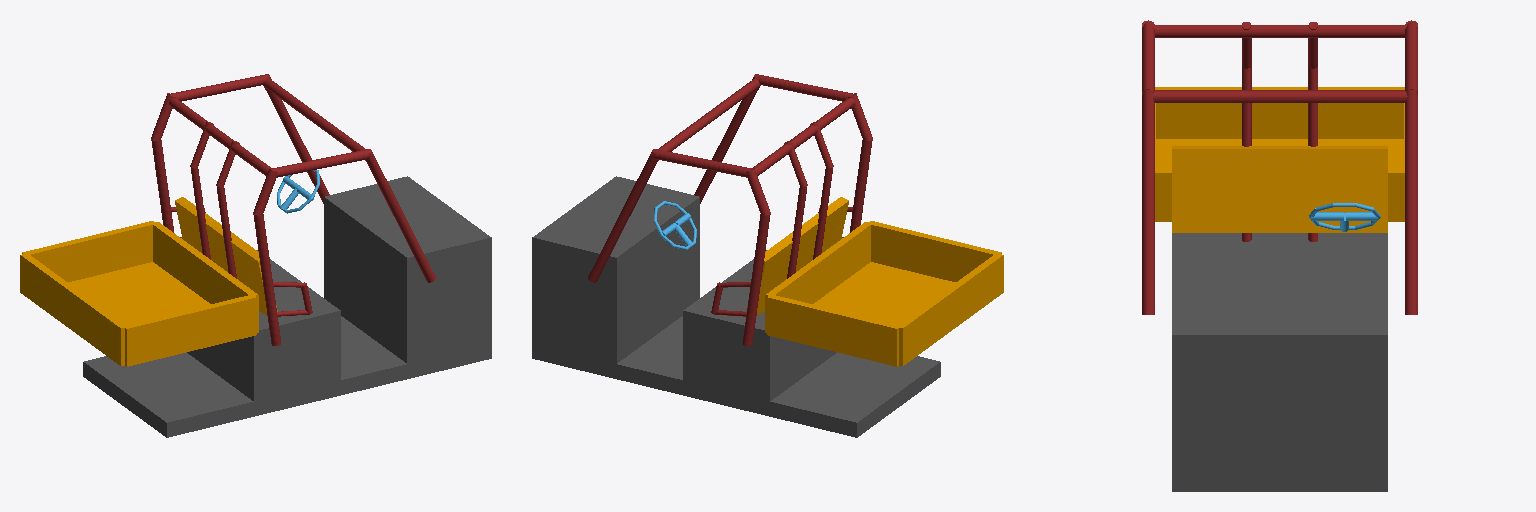
--- Facts derived from the render (not from the file) ---
3 views of the same robot in one strip: view 1: azimuth 30°, elevation 25°; view 2: azimuth 150°, elevation 25°; view 3: azimuth 270°, elevation 25° (orthographic).
Model polaris_ranger_ev with 2 links and 1 joints (1 fixed), rooted at chassis, posed all joints at 0.
Visible links, largest first — view 1: chassis, steering_wheel; view 2: chassis, steering_wheel; view 3: chassis, steering_wheel.
Link boxes in pixels (x1,y1,x2,y2): chassis: (20,74,491,437); steering_wheel: (277,170,319,213); chassis: (532,74,1003,437); steering_wheel: (654,201,696,249); chassis: (1142,20,1417,491); steering_wheel: (1308,203,1380,231).
Bounding box of the posed robot: 2.62 × 1.28 × 1.67 m (x, y, z).
0 mesh visuals loaded from 1 distinct referenced files (none loaded); not drawn: 1 (reference not matched to a file when rendering).

robot.urdf — polaris_ranger_ev:
<robot name="polaris_ranger_ev">
  <link name="chassis">
    <inertial>
      <!-- subtracted wheel weights from dry weight of 771 kg -->
      <!-- http://www.polaris.com/en-us/ranger-utv/side-by-sides/ranger-ev/specifications -->
      <mass>720.0</mass>
      <inertia>
        <ixx>140</ixx>
        <ixy>0.0</ixy><iyy>550</iyy>
        <ixz>0.0</ixz><iyz>0.0</iyz><izz>550</izz>
      </inertia>
    </inertial>
    <visual name="visual">
      <!-- rotate mesh to get to X-forward -->
      <origin rpy="0 0 -1.570796" xyz="0 0 0" />
      <geometry>
        <mesh filename="model://polaris_ranger_ev/meshes/polaris.dae" />
      </geometry>
      <material>
        <script>
          <uri>model://polaris_ranger_ev/materials/scripts</uri>
          <uri>model://polaris_ranger_ev/materials/textures</uri>
          <name>Polaris/Diffuse</name>
        </script>
      </material>
    </visual>
    <!--<collision name="chassis_bottom">-->
      <!--<origin rpy="0.0 0.0 0.0" xyz="0.0 0.0 0.35" /> -->
      <!--<geometry>-->
        <!--<box-->
          <!--size="2.0 1.0 0.1"-->
        <!--/>-->
      <!--</geometry>-->
    <!--</collision>-->
    <!--<collision name="cargo_bottom">-->
      <!--<origin rpy="0.0 0.0 0.0" xyz="-0.9 0.0 0.9" /> -->
      <!--<geometry>-->
        <!--<box-->
          <!--size="0.9 1.2 0.01"-->
        <!--/>-->
      <!--</geometry>-->
    <!--</collision>-->
    <!--<collision name="cargo_front">-->
      <!--<origin rpy="0.0 0.0 0.0" xyz="-0.45 0.0 1.025" /> -->
      <!--<geometry>-->
        <!--<box-->
          <!--size="0.05 1.2 0.25"-->
        <!--/>-->
      <!--</geometry>-->
    <!--</collision>-->
    <!--<collision name="cargo_back">-->
      <!--<origin rpy="0.0 0.0 0.0" xyz="-1.35 0.0 1.025" /> -->
      <!--<geometry>-->
        <!--<box-->
          <!--size="0.05 1.2 0.25"-->
        <!--/>-->
      <!--</geometry>-->
    <!--</collision>-->
    <!--<collision name="cargo_left">-->
      <!--<origin rpy="0.0 0.0 0.0" xyz="-0.9 0.6 1.025" /> -->
      <!--<geometry>-->
        <!--<box-->
          <!--size="0.9 0.05 0.25"-->
        <!--/>-->
      <!--</geometry>-->
    <!--</collision>-->
    <!--<collision name="cargo_right">-->
      <!--<origin rpy="0.0 0.0 0.0" xyz="-0.9 -0.6 1.025" /> -->
      <!--<geometry>-->
        <!--<box-->
          <!--size="0.9 0.05 0.25"-->
        <!--/>-->
      <!--</geometry>-->
    <!--</collision>-->
    <!--<collision name="seat">-->
      <!--<origin rpy="0.0 0.0 0.0" xyz="-0.1 0.0 0.585" /> -->
      <!--<geometry>-->
        <!--<box-->
          <!--size="0.6 1.0 0.55"-->
        <!--/>-->
      <!--</geometry>-->
    <!--</collision>-->
    <!--<collision name="seat_back">-->
      <!--<origin rpy="0.0 -0.2 0.0" xyz="-0.3 0.0 1.125" /> -->
      <!--<geometry>-->
        <!--<box-->
          <!--size="0.06 1.0 0.4"-->
        <!--/>-->
      <!--</geometry>-->
    <!--</collision>-->
    <!--<collision name="engine">-->
      <!--<origin rpy="0.0 0.0 0.0" xyz="0.95 0.0 0.7" /> -->
      <!--<geometry>-->
        <!--<box-->
          <!--size="0.58 1.0 0.8"-->
        <!--/>-->
      <!--</geometry>-->
    <!--</collision>-->
    <!--[> Begin simple collision shapes for entry/exit handles <]-->
    <!--<collision name="handle_left_top">-->
      <!--<origin rpy=" 0 -1.32 0" xyz="-0.23 0.61 1.175" />-->
      <!--<geometry>-->
        <!--<cylinder-->
          <!--radius="0.015"-->
          <!--length="0.25"-->
        <!--/>-->
      <!--</geometry>-->
    <!--</collision>-->
    <!--<collision name="handle_left_bottom">-->
      <!--<origin rpy=" 0 -1.40 0" xyz="-0.20 0.61 0.98" />-->
      <!--<geometry>-->
        <!--<cylinder-->
          <!--radius="0.015"-->
          <!--length="0.25"-->
        <!--/>-->
      <!--</geometry>-->
    <!--</collision>-->
    <!--<collision name="handle_left_middle">-->
      <!--<origin rpy=" 0 -0.20 0" xyz="-0.10 0.61 1.055" />-->
      <!--<geometry>-->
        <!--<cylinder-->
          <!--radius="0.02"-->
          <!--length="0.20"-->
        <!--/>-->
      <!--</geometry>-->
    <!--</collision>-->
    <!--<collision name="handle_right_top">-->
      <!--<origin rpy=" 0 -1.32 0" xyz="-0.23 -0.61 1.175" />-->
      <!--<geometry>-->
        <!--<cylinder-->
          <!--radius="0.015"-->
          <!--length="0.25"-->
        <!--/>-->
      <!--</geometry>-->
    <!--</collision>-->
    <!--<collision name="handle_right_bottom">-->
      <!--<origin rpy=" 0 -1.40 0" xyz="-0.20 -0.61 0.98" />-->
      <!--<geometry>-->
        <!--<cylinder-->
          <!--radius="0.015"-->
          <!--length="0.25"-->
        <!--/>-->
      <!--</geometry>-->
    <!--</collision>-->
    <!--<collision name="handle_right_middle">-->
      <!--<origin rpy=" 0 -0.20 0" xyz="-0.10 -0.61 1.055" />-->
      <!--<geometry>-->
        <!--<cylinder-->
          <!--radius="0.02"-->
          <!--length="0.20"-->
          <!--/>-->
      <!--</geometry>-->
    <!--</collision>-->
    <!--[> End simple collision shapes for entry/exit handles <]-->
    <!--[> Begin simple collision shapes for roll cage <]-->
    <!--<collision name="rollcage_top_left">-->
      <!--<origin rpy=" 0 1.61 0" xyz="0.0 0.61 1.92" />-->
      <!--<geometry>-->
        <!--<cylinder-->
          <!--radius="0.03"-->
          <!--length="0.68"-->
        <!--/>-->
      <!--</geometry>-->
    <!--</collision>-->
    <!--<collision name="rollcage_top_right">-->
      <!--<origin rpy=" 0 1.61 0" xyz="0.0 -0.61 1.92" />-->
      <!--<geometry>-->
        <!--<cylinder-->
          <!--radius="0.03"-->
          <!--length="0.68"-->
        <!--/>-->
      <!--</geometry>-->
    <!--</collision>-->
    <!--<collision name="rollcage_top_front">-->
      <!--<origin rpy=" 1.570796 0 0" xyz="0.325 0.0 1.89" />-->
      <!--<geometry>-->
        <!--<cylinder-->
          <!--radius="0.03"-->
          <!--length="1.22"-->
        <!--/>-->
      <!--</geometry>-->
    <!--</collision>-->
    <!--<collision name="rollcage_top_back">-->
      <!--<origin rpy=" 1.570796 0 0" xyz="-0.330 0.0 1.92" />-->
      <!--<geometry>-->
        <!--<cylinder-->
          <!--radius="0.03"-->
          <!--length="1.22"-->
        <!--/>-->
      <!--</geometry>-->
    <!--</collision>-->
    <!--<collision name="rollcage_front_left">-->
      <!--<origin rpy=" 0 -0.44 0" xyz="0.54 0.61 1.45" />-->
      <!--<geometry>-->
        <!--<cylinder-->
          <!--radius="0.03"-->
          <!--length="1.04"-->
        <!--/>-->
      <!--</geometry>-->
    <!--</collision>-->
    <!--<collision name="rollcage_front_right">-->
      <!--<origin rpy=" 0 -0.44 0" xyz="0.54 -0.61 1.45" />-->
      <!--<geometry>-->
        <!--<cylinder-->
          <!--radius="0.03"-->
          <!--length="1.04"-->
        <!--/>-->
      <!--</geometry>-->
    <!--</collision>-->
    <!--<collision name="rollcage_back_left">-->
      <!--<origin rpy=" 0 -0.14 0" xyz="-0.37 0.61 1.25" />-->
      <!--<geometry>-->
        <!--<cylinder-->
          <!--radius="0.03"-->
          <!--length="0.90"-->
        <!--/>-->
      <!--</geometry>-->
    <!--</collision>-->
    <!--<collision name="rollcage_back_right">-->
      <!--<origin rpy=" 0 -0.14 0" xyz="-0.37 -0.61 1.25" />-->
      <!--<geometry>-->
        <!--<cylinder-->
          <!--radius="0.03"-->
          <!--length="0.90"-->
        <!--/>-->
      <!--</geometry>-->
    <!--</collision>-->
    <!--<collision name="rollcage_back_midleft">-->
      <!--<origin rpy=" 0 -0.14 0" xyz="-0.37 0.155 1.25" />-->
      <!--<geometry>-->
        <!--<cylinder-->
          <!--radius="0.023"-->
          <!--length="0.90"-->
        <!--/>-->
      <!--</geometry>-->
    <!--</collision>-->
    <!--<collision name="rollcage_back_midright">-->
      <!--<origin rpy=" 0 -0.14 0" xyz="-0.37 -0.155 1.25" />-->
      <!--<geometry>-->
        <!--<cylinder-->
          <!--radius="0.023"-->
          <!--length="0.90"-->
        <!--/>-->
      <!--</geometry>-->
    <!--</collision>-->
    <!--<collision name="rollcage_back_upper_left">-->
      <!--<origin rpy=" 0 0.40 0" xyz="-0.38 0.61 1.82" />-->
      <!--<geometry>-->
        <!--<cylinder-->
          <!--radius="0.03"-->
          <!--length="0.29"-->
        <!--/>-->
      <!--</geometry>-->
    <!--</collision>-->
    <!--<collision name="rollcage_back_upper_right">-->
      <!--<origin rpy=" 0 0.40 0" xyz="-0.38 -0.61 1.82" />-->
      <!--<geometry>-->
        <!--<cylinder-->
          <!--radius="0.03"-->
          <!--length="0.29"-->
        <!--/>-->
      <!--</geometry>-->
    <!--</collision>-->
    <!--<collision name="rollcage_back_upper_midleft">-->
      <!--<origin rpy=" 0 0.40 0" xyz="-0.38 0.155 1.82" />-->
      <!--<geometry>-->
        <!--<cylinder-->
          <!--radius="0.023"-->
          <!--length="0.29"-->
        <!--/>-->
      <!--</geometry>-->
    <!--</collision>-->
    <!--<collision name="rollcage_back_upper_midright">-->
      <!--<origin rpy=" 0 0.40 0" xyz="-0.38 -0.155 1.82" />-->
      <!--<geometry>-->
        <!--<cylinder-->
          <!--radius="0.023"-->
          <!--length="0.29"-->
        <!--/>-->
      <!--</geometry>-->
    <!--</collision>-->
    <!-- End simple collision shapes for roll cage -->
    <visual name="chassis_bottom">
      <origin rpy="0.0 0.0 0.0" xyz="0.0 0.0 0.35" /> 
      <geometry>
        <box
          size="2.0 1.0 0.1"
        />
      </geometry>
      <material name="">
        <color rgba="0.4 0.4 0.4 1" />
      </material>
    </visual>
    <visual name="cargo_bottom">
      <origin rpy="0.0 0.0 0.0" xyz="-0.9 0.0 0.9" /> 
      <geometry>
        <box
          size="0.9 1.2 0.01"
        />
      </geometry>
    </visual>
    <visual name="cargo_front">
      <origin rpy="0.0 0.0 0.0" xyz="-0.45 0.0 1.025" /> 
      <geometry>
        <box
          size="0.05 1.2 0.25"
        />
      </geometry>
    </visual>
    <visual name="cargo_back">
      <origin rpy="0.0 0.0 0.0" xyz="-1.35 0.0 1.025" /> 
      <geometry>
        <box
          size="0.05 1.2 0.25"
        />
      </geometry>
    </visual>
    <visual name="cargo_left">
      <origin rpy="0.0 0.0 0.0" xyz="-0.9 0.6 1.025" /> 
      <geometry>
        <box
          size="0.9 0.05 0.25"
        />
      </geometry>
    </visual>
    <visual name="cargo_right">
      <origin rpy="0.0 0.0 0.0" xyz="-0.9 -0.6 1.025" /> 
      <geometry>
        <box
          size="0.9 0.05 0.25"
        />
      </geometry>
    </visual>
    <visual name="seat">
      <origin rpy="0.0 0.0 0.0" xyz="-0.1 0.0 0.585" /> 
      <geometry>
        <box
          size="0.6 1.0 0.55"
        />
      </geometry>
      <material name="">
        <color rgba="0.4 0.4 0.4 1" />
      </material>
    </visual>
    <visual name="seat_back">
      <origin rpy="0.0 -0.2 0.0" xyz="-0.3 0.0 1.125" /> 
      <geometry>
        <box
          size="0.06 1.0 0.4"
        />
      </geometry>
    </visual>
    <visual name="engine">
      <origin rpy="0.0 0.0 0.0" xyz="0.95 0.0 0.7" /> 
      <geometry>
        <box
          size="0.58 1.0 0.8"
        />
      </geometry>
      <material name="">
        <color rgba="0.4 0.4 0.4 1" />
      </material>
    </visual>
    <!-- Begin simple visual shapes for entry/exit handles -->
    <visual name="handle_left_top">
      <origin rpy=" 0 -1.32 0" xyz="-0.23 0.61 1.175" />
      <geometry>
        <cylinder
          radius="0.015"
          length="0.25"
        />
      </geometry>
      <material name="">
        <color rgba="0.6 0.2 0.2 1" />
      </material>
    </visual>
    <visual name="handle_left_bottom">
      <origin rpy=" 0 -1.40 0" xyz="-0.20 0.61 0.98" />
      <geometry>
        <cylinder
          radius="0.015"
          length="0.25"
        />
      </geometry>
      <material name="">
        <color rgba="0.6 0.2 0.2 1" />
      </material>
    </visual>
    <visual name="handle_left_middle">
      <origin rpy=" 0 -0.20 0" xyz="-0.10 0.61 1.055" />
      <geometry>
        <cylinder
          radius="0.02"
          length="0.20"
        />
      </geometry>
      <material name="">
        <color rgba="0.6 0.2 0.2 1" />
      </material>
    </visual>
    <visual name="handle_right_top">
      <origin rpy=" 0 -1.32 0" xyz="-0.23 -0.61 1.175" />
      <geometry>
        <cylinder
          radius="0.015"
          length="0.25"
        />
      </geometry>
      <material name="">
        <color rgba="0.6 0.2 0.2 1" />
      </material>
    </visual>
    <visual name="handle_right_bottom">
      <origin rpy=" 0 -1.40 0" xyz="-0.20 -0.61 0.98" />
      <geometry>
        <cylinder
          radius="0.015"
          length="0.25"
        />
      </geometry>
      <material name="">
        <color rgba="0.6 0.2 0.2 1" />
      </material>
    </visual>
    <visual name="handle_right_middle">
      <origin rpy=" 0 -0.20 0" xyz="-0.10 -0.61 1.055" />
      <geometry>
        <cylinder
          radius="0.02"
          length="0.20"
          />
      </geometry>
      <material name="">
        <color rgba="0.6 0.2 0.2 1" />
      </material>
    </visual>
    <!-- End simple visual shapes for entry/exit handles -->
    <!-- Begin simple visual shapes for roll cage -->
    <visual name="rollcage_top_left">
      <origin rpy=" 0 1.61 0" xyz="0.0 0.61 1.92" />
      <geometry>
        <cylinder
          radius="0.03"
          length="0.68"
        />
      </geometry>
      <material name="">
        <color rgba="0.6 0.2 0.2 1" />
      </material>
    </visual>
    <visual name="rollcage_top_right">
      <origin rpy=" 0 1.61 0" xyz="0.0 -0.61 1.92" />
      <geometry>
        <cylinder
          radius="0.03"
          length="0.68"
        />
      </geometry>
      <material name="">
        <color rgba="0.6 0.2 0.2 1" />
      </material>
    </visual>
    <visual name="rollcage_top_front">
      <origin rpy=" 1.570796 0 0" xyz="0.325 0.0 1.89" />
      <geometry>
        <cylinder
          radius="0.03"
          length="1.22"
        />
      </geometry>
      <material name="">
        <color rgba="0.6 0.2 0.2 1" />
      </material>
    </visual>
    <visual name="rollcage_top_back">
      <origin rpy=" 1.570796 0 0" xyz="-0.330 0.0 1.92" />
      <geometry>
        <cylinder
          radius="0.03"
          length="1.22"
        />
      </geometry>
      <material name="">
        <color rgba="0.6 0.2 0.2 1" />
      </material>
    </visual>
    <visual name="rollcage_front_left">
      <origin rpy=" 0 -0.44 0" xyz="0.54 0.61 1.45" />
      <geometry>
        <cylinder
          radius="0.03"
          length="1.04"
        />
      </geometry>
      <material name="">
        <color rgba="0.6 0.2 0.2 1" />
      </material>
    </visual>
    <visual name="rollcage_front_right">
      <origin rpy=" 0 -0.44 0" xyz="0.54 -0.61 1.45" />
      <geometry>
        <cylinder
          radius="0.03"
          length="1.04"
        />
      </geometry>
      <material name="">
        <color rgba="0.6 0.2 0.2 1" />
      </material>
    </visual>
    <visual name="rollcage_back_left">
      <origin rpy=" 0 -0.14 0" xyz="-0.37 0.61 1.25" />
      <geometry>
        <cylinder
          radius="0.03"
          length="0.90"
        />
      </geometry>
      <material name="">
        <color rgba="0.6 0.2 0.2 1" />
      </material>
    </visual>
    <visual name="rollcage_back_right">
      <origin rpy=" 0 -0.14 0" xyz="-0.37 -0.61 1.25" />
      <geometry>
        <cylinder
          radius="0.03"
          length="0.90"
        />
      </geometry>
      <material name="">
        <color rgba="0.6 0.2 0.2 1" />
      </material>
    </visual>
    <visual name="rollcage_back_midleft">
      <origin rpy=" 0 -0.14 0" xyz="-0.37 0.155 1.25" />
      <geometry>
        <cylinder
          radius="0.023"
          length="0.90"
        />
      </geometry>
      <material name="">
        <color rgba="0.6 0.2 0.2 1" />
      </material>
    </visual>
    <visual name="rollcage_back_midright">
      <origin rpy=" 0 -0.14 0" xyz="-0.37 -0.155 1.25" />
      <geometry>
        <cylinder
          radius="0.023"
          length="0.90"
        />
      </geometry>
      <material name="">
        <color rgba="0.6 0.2 0.2 1" />
      </material>
    </visual>
    <visual name="rollcage_back_upper_left">
      <origin rpy=" 0 0.40 0" xyz="-0.38 0.61 1.82" />
      <geometry>
        <cylinder
          radius="0.03"
          length="0.29"
        />
      </geometry>
      <material name="">
        <color rgba="0.6 0.2 0.2 1" />
      </material>
    </visual>
    <visual name="rollcage_back_upper_right">
      <origin rpy=" 0 0.40 0" xyz="-0.38 -0.61 1.82" />
      <geometry>
        <cylinder
          radius="0.03"
          length="0.29"
        />
      </geometry>
      <material name="">
        <color rgba="0.6 0.2 0.2 1" />
      </material>
    </visual>
    <visual name="rollcage_back_upper_midleft">
      <origin rpy=" 0 0.40 0" xyz="-0.38 0.155 1.82" />
      <geometry>
        <cylinder
          radius="0.023"
          length="0.29"
        />
      </geometry>
      <material name="">
        <color rgba="0.6 0.2 0.2 1" />
      </material>
    </visual>
    <visual name="rollcage_back_upper_midright">
      <origin rpy=" 0 0.40 0" xyz="-0.38 -0.155 1.82" />
      <geometry>
        <cylinder
          radius="0.023"
          length="0.29"
        />
      </geometry>
      <material name="">
        <color rgba="0.6 0.2 0.2 1" />
      </material>
    </visual>
    <!-- End simple visual shapes for roll cage -->
  </link>
  <!--<link name="rear_right_wheel">-->
    <!--<origin rpy="1.570796 0.0 0.0" xyz="-0.85 -0.6 0.32" />-->
    <!--<inertial>-->
      <!--<mass>12</mass>[> estimated from http://www.rzrforums.net/wheels-tires/1729-tire-wheel-weights-most-sizes.html <]-->
      <!--<inertia>-->
        <!--<ixx>0.5</ixx>-->
        <!--<ixy>0.0</ixy><iyy>0.5</iyy>-->
        <!--<ixz>0.0</ixz><iyz>0.0</iyz><izz>1.0</izz>-->
      <!--</inertia>-->
    <!--</inertial>-->
    <!--<collision name="collision">-->
      <!--<geometry>-->
        <!--<cylinder-->
          <!--radius="0.32"-->
          <!--length="0.23"-->
        <!--/>-->
      <!--</geometry>-->
      <!--<surface>-->
        <!--<friction>-->
          <!--<ode>-->
            <!--<mu>100000.0</mu>-->
            <!--<mu2>100000.0</mu2>-->
            <!--<slip1>0.0</slip1>-->
            <!--<slip2>0.0</slip2>-->
          <!--</ode>-->
        <!--</friction>-->
      <!--</surface>-->
    <!--</collision>-->
  <!--</link>-->
  <!--<joint type="revolute" name="rear_right_wheel_joint">-->
    <!--<pose>0.0 0.0 -0.1 0 0 0</pose>-->
    <!--<child>rear_right_wheel</child>-->
    <!--<parent>chassis</parent>-->
    <!--<axis>-->
      <!--<xyz>0 1 0</xyz>-->
    <!--</axis>-->
    <!--<physics><ode><limit>-->
          <!--<cfm>0.000000</cfm>-->
          <!--<erp>0.900000</erp>-->
    <!--</limit></ode></physics>-->
  <!--</joint>-->
  <!--<link name="rear_left_wheel">-->
    <!--<pose>-0.85 0.6 0.32 1.570796 0.0 0.0</pose>-->
    <!--<inertial>-->
      <!--<mass>12</mass>[> estimated from http://www.rzrforums.net/wheels-tires/1729-tire-wheel-weights-most-sizes.html <]-->
      <!--<inertia>-->
        <!--<ixx>0.5</ixx>-->
        <!--<ixy>0.0</ixy><iyy>0.5</iyy>-->
        <!--<ixz>0.0</ixz><iyz>0.0</iyz><izz>1.0</izz>-->
      <!--</inertia>-->
    <!--</inertial>-->
    <!--<collision name="collision">-->
      <!--<geometry>-->
        <!--<cylinder-->
          <!--radius="0.32"-->
          <!--length="0.23"-->
        <!--/>-->
      <!--</geometry>-->
      <!--<surface>-->
        <!--<friction>-->
          <!--<ode>-->
            <!--<mu>100000.0</mu>-->
            <!--<mu2>100000.0</mu2>-->
            <!--<slip1>0.0</slip1>-->
            <!--<slip2>0.0</slip2>-->
          <!--</ode>-->
        <!--</friction>-->
      <!--</surface>-->
    <!--</collision>-->
  <!--</link>-->
  <!--<joint type="revolute" name="rear_left_wheel_joint">-->
    <!--<child>rear_left_wheel</child>-->
    <!--<parent>chassis</parent>-->
    <!--<axis>-->
      <!--<xyz>0 1 0</xyz>-->
    <!--</axis>-->
    <!--<physics><ode><limit>-->
          <!--<cfm>0.000000</cfm>-->
          <!--<erp>0.900000</erp>-->
    <!--</limit></ode></physics>-->
  <!--</joint>-->
  <!--<link name="front_right_wheel">-->
    <!--<pose>1.03 -0.6 0.32 1.570796 0.0 0.0</pose>-->
    <!--<inertial>-->
      <!--<mass>12</mass>[> estimated from http://www.rzrforums.net/wheels-tires/1729-tire-wheel-weights-most-sizes.html <]-->
      <!--<inertia>-->
        <!--<ixx>0.5</ixx>-->
        <!--<ixy>0.0</ixy><iyy>0.5</iyy>-->
        <!--<ixz>0.0</ixz><iyz>0.0</iyz><izz>1.0</izz>-->
      <!--</inertia>-->
    <!--</inertial>-->
    <!--<collision name="collision">-->
      <!--<geometry>-->
        <!--<cylinder-->
          <!--radius="0.32"-->
          <!--length="0.23"-->
        <!--/>-->
      <!--</geometry>-->
      <!--<surface>-->
        <!--<friction>-->
          <!--<ode>-->
            <!--<mu>100000.0</mu>-->
            <!--<mu2>100000.0</mu2>-->
            <!--<slip1>0.0</slip1>-->
            <!--<slip2>0.0</slip2>-->
          <!--</ode>-->
        <!--</friction>-->
      <!--</surface>-->
    <!--</collision>-->
  <!--</link>-->
  <!--<link name="front_right_wheel_steering_block">-->
    <!--<pose>1.03 -0.5 0.32 1.570796 0.0 0.0</pose>-->
    <!--<inertial>-->
      <!--<mass>1</mass>-->
      <!--<inertia>-->
        <!--<ixx>1.0</ixx>-->
        <!--<ixy>0.0</ixy><iyy>1.0</iyy>-->
        <!--<ixz>0.0</ixz><iyz>0.0</iyz><izz>1.0</izz>-->
      <!--</inertia>-->
    <!--</inertial>-->
    <!--<collision name="collision">-->
      <!--<geometry>-->
        <!--<cylinder-->
          <!--radius="0.05"-->
          <!--length="0.01"-->
        <!--/>-->
      <!--</geometry>-->
    <!--</collision>-->
  <!--</link>-->
  <!--<joint type="revolute" name="front_right_steering_joint">-->
    <!--<child>front_right_wheel_steering_block</child>-->
    <!--<parent>chassis</parent>-->
    <!--<axis>-->
      <!--<xyz>0 0 1</xyz>-->
      <!--<limit>-->
        <!--<lower>-1.0</lower>-->
        <!--<upper>1.0</upper>-->
      <!--</limit>-->
    <!--</axis>-->
    <!--<physics><ode><limit>-->
          <!--<cfm>0.000000</cfm>-->
          <!--<erp>0.900000</erp>-->
    <!--</limit></ode></physics>-->
  <!--</joint>-->
  <!--<joint type="revolute" name="front_right_wheel_joint">-->
    <!--<child>front_right_wheel</child>-->
    <!--<parent>front_right_wheel_steering_block</parent>-->
    <!--<axis>-->
      <!--<xyz>0 1 0</xyz>-->
    <!--</axis>-->
    <!--<physics><ode><limit>-->
          <!--<cfm>0.000000</cfm>-->
          <!--<erp>0.900000</erp>-->
    <!--</limit></ode></physics>-->
  <!--</joint>-->
  <!--<link name="front_left_wheel">-->
    <!--<pose>1.03 0.6 0.32 1.570796 0.0 0.0</pose>-->
    <!--<inertial>-->
      <!--<mass>12</mass>[> estimated from http://www.rzrforums.net/wheels-tires/1729-tire-wheel-weights-most-sizes.html <]-->
      <!--<inertia>-->
        <!--<ixx>0.5</ixx>-->
        <!--<ixy>0.0</ixy><iyy>0.5</iyy>-->
        <!--<ixz>0.0</ixz><iyz>0.0</iyz><izz>1.0</izz>-->
      <!--</inertia>-->
    <!--</inertial>-->
    <!--<collision name="collision">-->
      <!--<geometry>-->
        <!--<cylinder-->
          <!--radius="0.32"-->
          <!--length="0.23"-->
        <!--/>-->
      <!--</geometry>-->
      <!--<surface>-->
        <!--<friction>-->
          <!--<ode>-->
            <!--<mu>100000.0</mu>-->
            <!--<mu2>100000.0</mu2>-->
            <!--<slip1>0.0</slip1>-->
            <!--<slip2>0.0</slip2>-->
          <!--</ode>-->
        <!--</friction>-->
      <!--</surface>-->
    <!--</collision>-->
  <!--</link>-->
  <!--<link name="front_left_wheel_steering_block">-->
    <!--<pose>1.03 0.5 0.32 1.570796 0.0 0.0</pose>-->
    <!--<inertial>-->
      <!--<mass>1</mass>-->
      <!--<inertia>-->
        <!--<ixx>1.0</ixx>-->
        <!--<ixy>0.0</ixy><iyy>1.0</iyy>-->
        <!--<ixz>0.0</ixz><iyz>0.0</iyz><izz>1.0</izz>-->
      <!--</inertia>-->
    <!--</inertial>-->
    <!--<collision name="collision">-->
      <!--<geometry>-->
        <!--<cylinder-->
          <!--radius="0.05"-->
          <!--length="0.01"-->
        <!--/>-->
      <!--</geometry>-->
    <!--</collision>-->
  <!--</link>-->
  <!--<joint type="revolute" name="front_left_steering_joint">-->
    <!--<child>front_left_wheel_steering_block</child>-->
    <!--<parent>chassis</parent>-->
    <!--<axis>-->
      <!--<xyz>0 0 1</xyz>-->
      <!--<limit>-->
        <!--<lower>-1.0</lower>-->
        <!--<upper>1.0</upper>-->
      <!--</limit>-->
    <!--</axis>-->
    <!--<physics><ode><limit>-->
          <!--<cfm>0.000000</cfm>-->
          <!--<erp>0.900000</erp>-->
    <!--</limit></ode></physics>-->
  <!--</joint>-->
  <!--<joint type="revolute" name="front_left_wheel_joint">-->
    <!--<child>front_left_wheel</child>-->
    <!--<parent>front_left_wheel_steering_block</parent>-->
    <!--<axis>-->
      <!--<xyz>0 1 0</xyz>-->
    <!--</axis>-->
    <!--<physics><ode><limit>-->
          <!--<cfm>0.000000</cfm>-->
          <!--<erp>0.900000</erp>-->
    <!--</limit></ode></physics>-->
  <!--</joint>-->
  <!--[> gas/brake pedals, steering wheel and hand brake <]-->
  <!--<link name='gas_pedal'>-->
    <!--<pose>0.53 0.14 0.56 0 -1.0 0</pose>-->
    <!--<gravity>false</gravity>-->
    <!--<inertial>-->
      <!--<mass>0.1</mass>-->
      <!--<pose>0 0 0 0 0 0</pose>-->
      <!--<inertia>-->
        <!--<ixx>0.01</ixx>-->
        <!--<ixy>0</ixy>-->
        <!--<ixz>0</ixz>-->
        <!--<iyy>0.01</iyy>-->
        <!--<iyz>0</iyz>-->
        <!--<izz>0.01</izz>-->
      <!--</inertia>-->
    <!--</inertial>-->
    <!--<collision name='gas_pedal_collision'>-->
      <!--<geometry>-->
        <!--<box-->
          <!--size="0.120000 0.070000 0.030000"-->
        <!--/>-->
      <!--</geometry>-->
    <!--</collision>-->
    <!--<visual name='gas_pedal_visual'>-->
      <!--<geometry>-->
        <!--<box-->
          <!--size="0.120000 0.070000 0.030000"-->
        <!--/>-->
      <!--</geometry>-->
      <!--<material>-->
        <!--<script>-->
          <!--<uri>file://media/materials/scripts/gazebo.material</uri>-->
          <!--<name>Gazebo/Wood</name>-->
        <!--</script>-->
        <!--<ambient>0.2 0.2 0.2 1</ambient>-->
        <!--<diffuse>0.2 0.2 0.2 1</diffuse>-->
        <!--<specular>0.2 0.2 0.2 1</specular>-->
        <!--<emissive>0.5 0.5 0.5 1</emissive>-->
      <!--</material>-->
    <!--</visual>-->
  <!--</link>-->

  <!--<link name='brake_pedal'>-->
    <!--<gravity>false</gravity>-->
    <!--<pose>0.54 0.27 0.58 0 -1.0 0</pose>-->
    <!--<inertial>-->
      <!--<mass>0.1</mass>-->
      <!--<pose>0 0 0 0 0 0</pose>-->
      <!--<inertia>-->
        <!--<ixx>0.01</ixx>-->
        <!--<ixy>0</ixy>-->
        <!--<ixz>0</ixz>-->
        <!--<iyy>0.01</iyy>-->
        <!--<iyz>0</iyz>-->
        <!--<izz>0.01</izz>-->
      <!--</inertia>-->
    <!--</inertial>-->
    <!--<collision name='brake_pedal_collision'>-->
      <!--<geometry>-->
        <!--<box-->
          <!--size="0.06 0.08 0.03"-->
        <!--/>-->
      <!--</geometry>-->
    <!--</collision>-->
    <!--<visual name='brake_pedal_visual'>-->
      <!--<geometry>-->
        <!--<box-->
          <!--size="0.060000 0.080000 0.030000"-->
        <!--/>-->
      <!--</geometry>-->
      <!--<material>-->
        <!--<script>-->
          <!--<uri>file://media/materials/scripts/gazebo.material</uri>-->
          <!--<name>Gazebo/Wood</name>-->
        <!--</script>-->
        <!--<ambient>0.2 0.2 0.2 1</ambient>-->
        <!--<diffuse>0.2 0.2 0.2 1</diffuse>-->
        <!--<specular>0.2 0.2 0.2 1</specular>-->
        <!--<emissive>0.5 0.5 0.5 1</emissive>-->
      <!--</material>-->
    <!--</visual>-->
  <!--</link>-->

  <link name='steering_wheel'>
    <!--<origin rpy=" 0 -0.8 0" xyz="0.37 0.30 1.3" />-->
    <!--<origin rpy=" 0 -0.8 0" xyz="0 0 0" />-->
    <inertial>
      <mass>1.0</mass>
      <origin rpy="0 0 0" xyz="0 0 0" />
      <inertia>
        <ixx>0.1</ixx>
        <ixy>0</ixy>
        <ixz>0</ixz>
        <iyy>0.1</iyy>
        <iyz>0</iyz>
        <izz>1.0</izz>
      </inertia>
    </inertial>
    <visual name="steering_wheel_post_left">
      <origin rpy=" 1.570796 0 0" xyz="0.0 0.08 0.0" />
      <geometry>
        <cylinder
          radius="0.02"
          length="0.15"
        />
      </geometry>
    </visual>
    <visual name="steering_wheel_post_right">
      <origin rpy=" 1.570796 0 0" xyz="0.0 -0.08 0.0" />
      <geometry>
        <cylinder
          radius="0.02"
          length="0.15"
        />
      </geometry>
    </visual>
    <visual name="steering_wheel_post_middle">
      <origin rpy="0 1.570796 0" xyz="-0.08 0.0 0.0" />
      <geometry>
        <cylinder
          radius="0.02"
          length="0.15"
        />
      </geometry>
    </visual>
    <visual name="visual00">
      <origin rpy=" 0 1.570796 1.570796" xyz="0.150000 0.000000 0" />
      <geometry><cylinder length="0.105065778087" radius="0.01" /></geometry>
    </visual>
    <visual name="visual01">
      <origin rpy=" 0 1.570796 2.199115" xyz="0.121353 0.088168 0" />
      <geometry><cylinder length="0.105065778087" radius="0.01" /></geometry>
    </visual>
    <visual name="visual02">
      <origin rpy=" 0 1.570796 2.827433" xyz="0.046353 0.142658 0" />
      <geometry><cylinder length="0.105065778087" radius="0.01" /></geometry>
    </visual>
    <visual name="visual03">
      <origin rpy=" 0 1.570796 3.455752" xyz="-0.046353 0.142658 0" />
      <geometry><cylinder length="0.105065778087" radius="0.01" /></geometry>
    </visual>
    <visual name="visual04">
      <origin rpy=" 0 1.570796 4.084070" xyz="-0.121353 0.088168 0" />
      <geometry><cylinder length="0.105065778087" radius="0.01" /></geometry>
    </visual>
    <visual name="visual05">
      <origin rpy=" 0 1.570796 4.712389" xyz="-0.150000 0.000000 0" />
      <geometry><cylinder length="0.105065778087" radius="0.01" /></geometry>
    </visual>
    <visual name="visual06">
      <origin rpy=" 0 1.570796 5.340708" xyz="-0.121353 -0.088168 0" />
      <geometry><cylinder length="0.105065778087" radius="0.01" /></geometry>
    </visual>
    <visual name="visual07">
      <origin rpy=" 0 1.570796 5.969026" xyz="-0.046353 -0.142658 0" />
      <geometry><cylinder length="0.105065778087" radius="0.01" /></geometry>
    </visual>
    <visual name="visual08">
      <origin rpy=" 0 1.570796 6.597345" xyz="0.046353 -0.142658 0" />
      <geometry><cylinder length="0.105065778087" radius="0.01" /></geometry>
    </visual>
    <visual name="visual09">
      <origin rpy=" 0 1.570796 7.225663" xyz="0.121353 -0.088168 0" />
      <geometry><cylinder length="0.105065778087" radius="0.01" /></geometry>
    </visual>
    <velocity_decay>0.1</velocity_decay>
  </link>
  <!--<link name='hand_brake'>-->
    <!--<origin rpy="0.0 3.2 0.0" xyz="0.50 0.00 1.05" /> -->
    <!--<inertial>-->
      <!--<mass>1.0</mass>-->
      <!--<origin rpy="0 0 0" xyz="0 0 -0.15" />-->
      <!--<inertia>-->
        <!--<ixx>0.1</ixx>-->
        <!--<ixy>0</ixy>-->
        <!--<ixz>0</ixz>-->
        <!--<iyy>0.1</iyy>-->
        <!--<iyz>0</iyz>-->
        <!--<izz>1.0</izz>-->
      <!--</inertia>-->
    <!--</inertial>-->
    <!--<collision name="hand_brake_collision">-->
      <!--<origin rpy="0 0 0" xyz="0 0 -0.10" />-->
      <!--<geometry>-->
        <!--<cylinder-->
          <!--radius="0.01"-->
          <!--length="0.2"-->
        <!--/>-->
      <!--</geometry>-->
    <!--</collision>-->
    <!--<visual name="hand_brake_visual">-->
      <!--<origin rpy="0 0 0" xyz="0 0 -0.10" />-->
      <!--<geometry>-->
        <!--<cylinder-->
          <!--radius="0.01"-->
          <!--length="0.2"-->
        <!--/>-->
      <!--</geometry>-->
      <!--<material>-->
        <!--<script>-->
          <!--<uri>file://media/materials/scripts/gazebo.material</uri>-->
          <!--<name>Gazebo/Wood</name>-->
        <!--</script>-->
      <!--</material>-->
    <!--</visual>-->
  <!--</link>-->
  <!--<joint name='gas_joint' type='prismatic'>-->
    <!--<parent>chassis</parent>-->
    <!--<child>gas_pedal</child>-->
    <!--<axis>-->
      <!--<xyz>1.000000 0.000000 -1.000000</xyz>-->
      <!--<limit>-->
        <!--<lower>0.00</lower>-->
        <!--<upper>0.15</upper>-->
      <!--</limit>-->
    <!--</axis>-->
  <!--</joint>-->
  <!--<joint name='brake_joint' type='prismatic'>-->
    <!--<parent>chassis</parent>-->
    <!--<child>brake_pedal</child>-->
    <!--<axis>-->
      <!--<xyz>1.000000 0.000000 -0.600000</xyz>-->
      <!--<limit>-->
        <!--<lower>0.00</lower>-->
        <!--<upper>0.15</upper>-->
      <!--</limit>-->
    <!--</axis>-->
  <!--</joint>-->
  <joint name='steering_joint' type='fixed'>
    <!--<origin rpy="1.570796 -0.8 0.0" xyz="0.37 0.30 1.3" />-->
    <origin rpy="0 -0.8 0.0" xyz="0.37 0.30 1.3" />
    <parent link="chassis" />
    <child link="steering_wheel" />
    <axis xyz="-1 0 1.023" />
    <!--<axis xyz="0 1 0" />-->
    <limit lower="-7.853000" upper="7.853000" />
  </joint>
  <!--<joint name='hand_brake_joint' type='revolute'>-->
    <!--<parent link="chassis" />-->
    <!--<child link="hand_brake" />-->
    <!--<axis>-->
      <!--<xyz>0.0 -1.0 0.0</xyz>-->
      <!--<limit>-->
        <!--<lower>0</lower>-->
        <!--<upper>0.6</upper>-->
      <!--</limit>-->
    <!--</axis>-->
  <!--</joint>-->
</robot>
